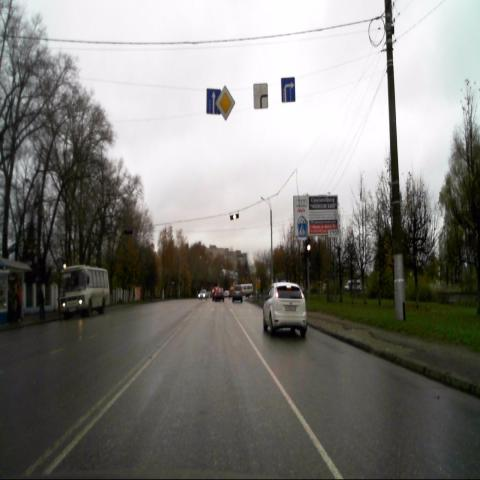8_13: (253, 82, 268, 108)
